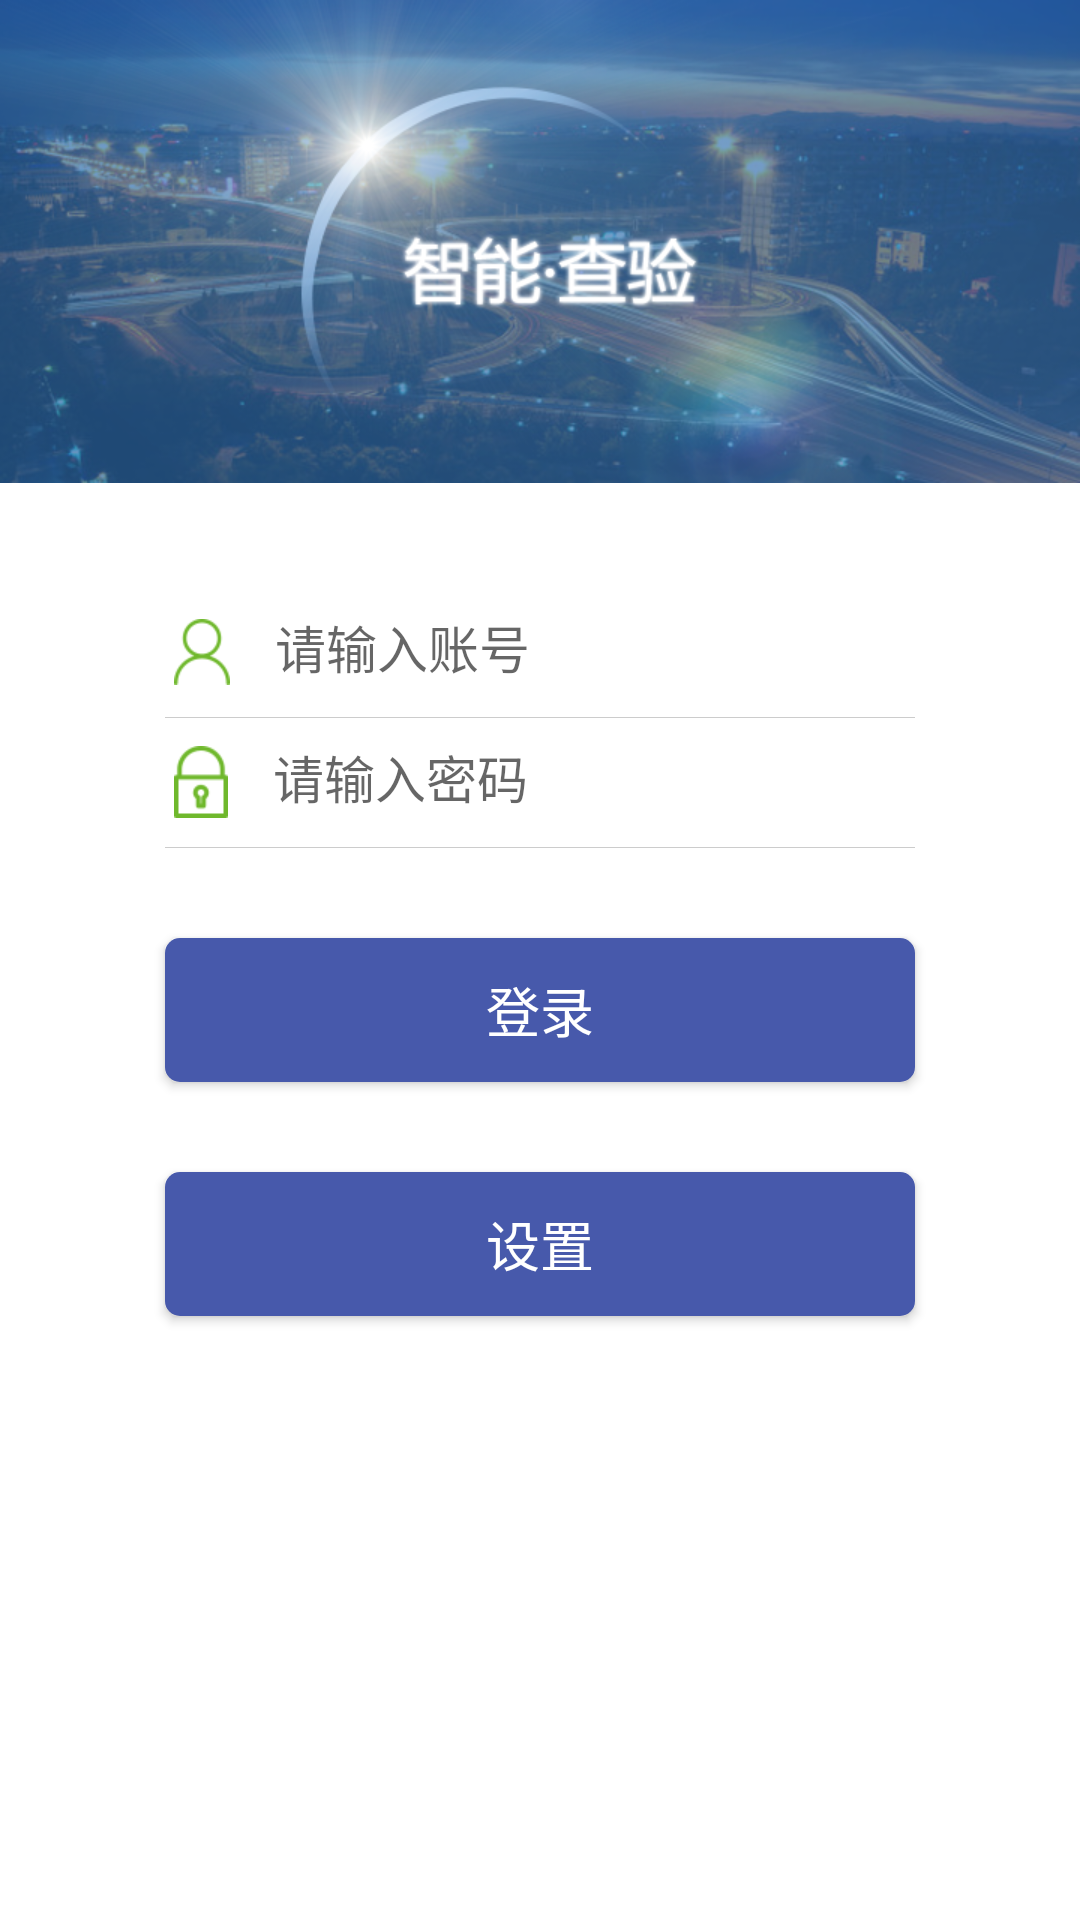

Locate icon controls on the screen. Image size 1080px x 1920px, boxes as [x1, y1, x2, y2].
register pass: [174, 746, 228, 818]
